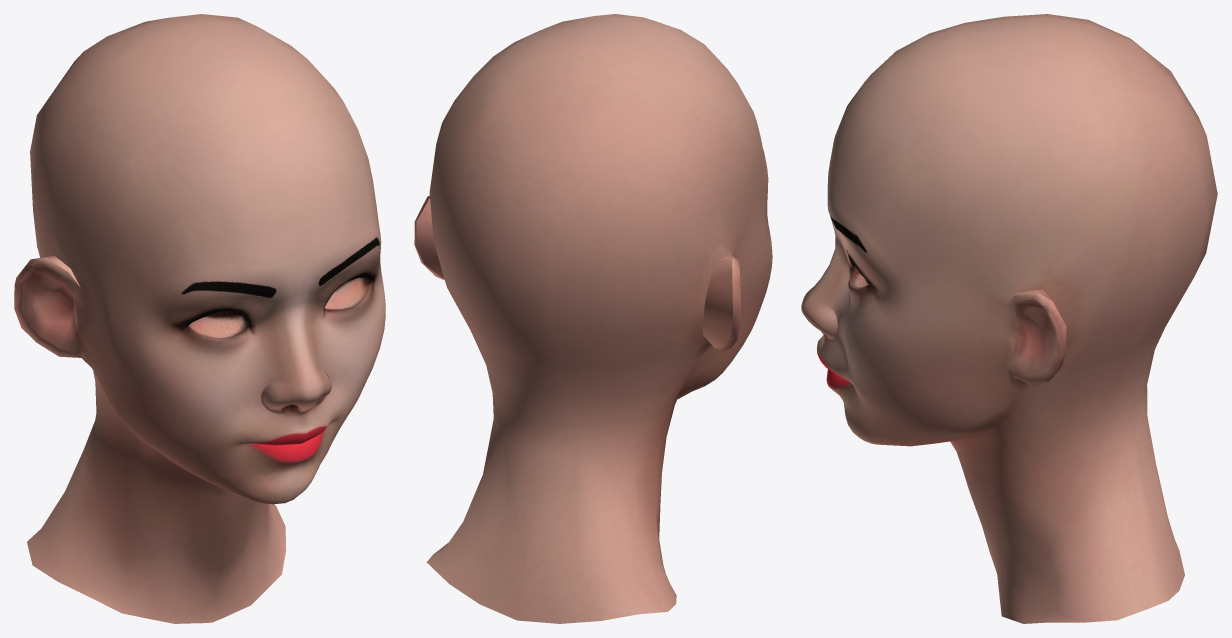
File: makyaj2.glb
3 views of the same model, side by side, from view 1: azimuth 30°, elevation 25°; view 2: azimuth 150°, elevation 25°; view 3: azimuth 270°, elevation 25° (orthographic). The views are drawn at different scales.
Visible parts, largest first — view 1: Wolf3D_Head; view 2: Wolf3D_Head; view 3: Wolf3D_Head.
Part boxes in pixels (x1,y1,x2,y2): Wolf3D_Head: (14, 14, 385, 623); Wolf3D_Head: (414, 14, 772, 623); Wolf3D_Head: (801, 14, 1217, 623).
Bounding box in the file's own units: 0.1899 × 0.3109 × 0.2036.
1 material, 1 textured.
